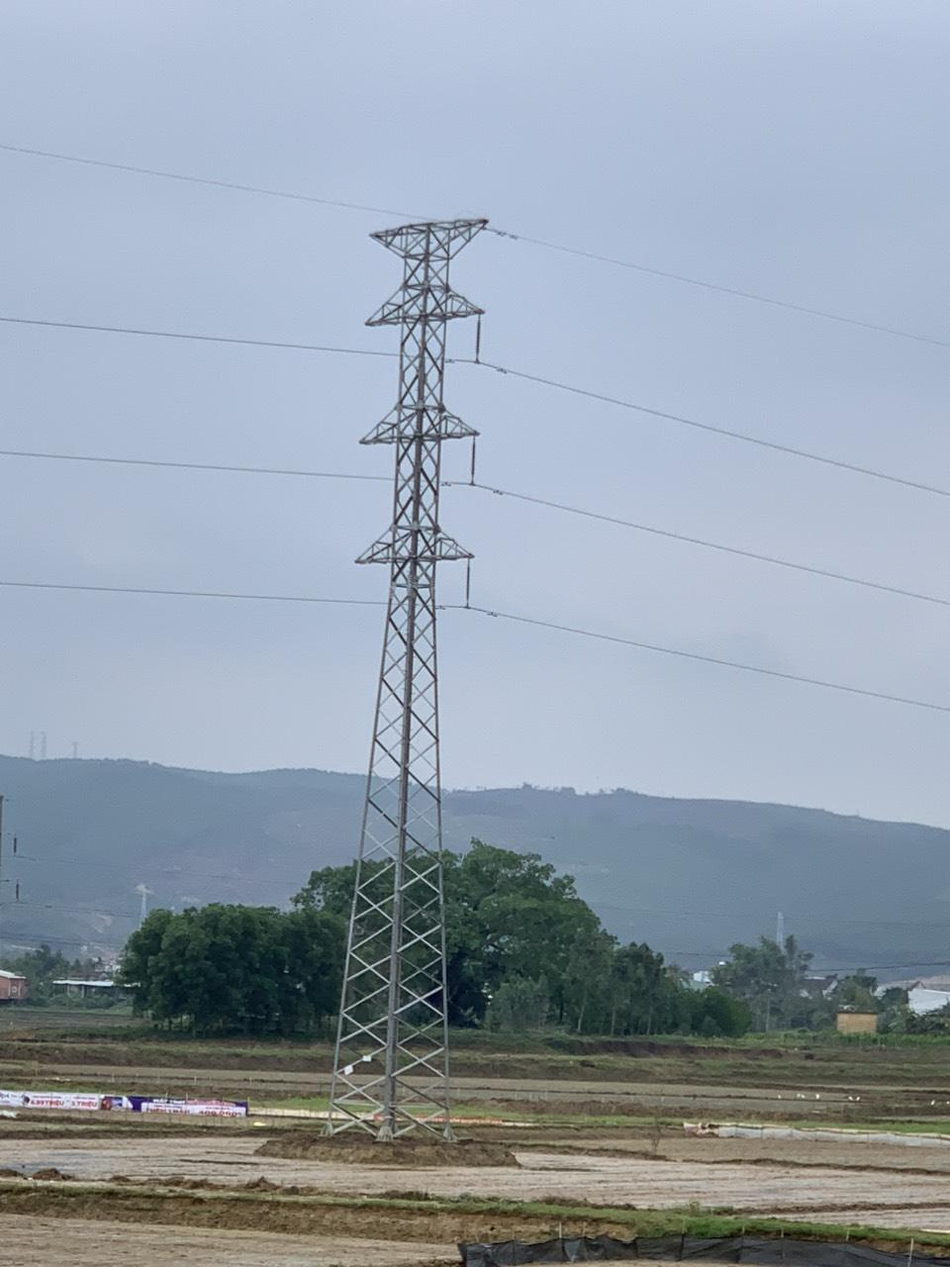power_tower: (334, 198, 469, 1138)
